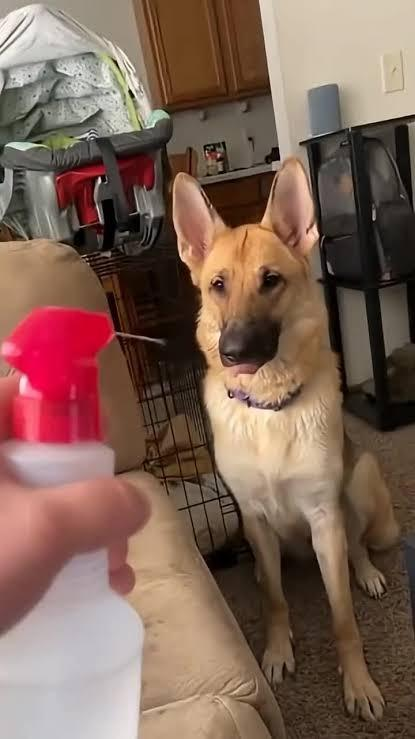adult_dog: (171, 157, 408, 722)
